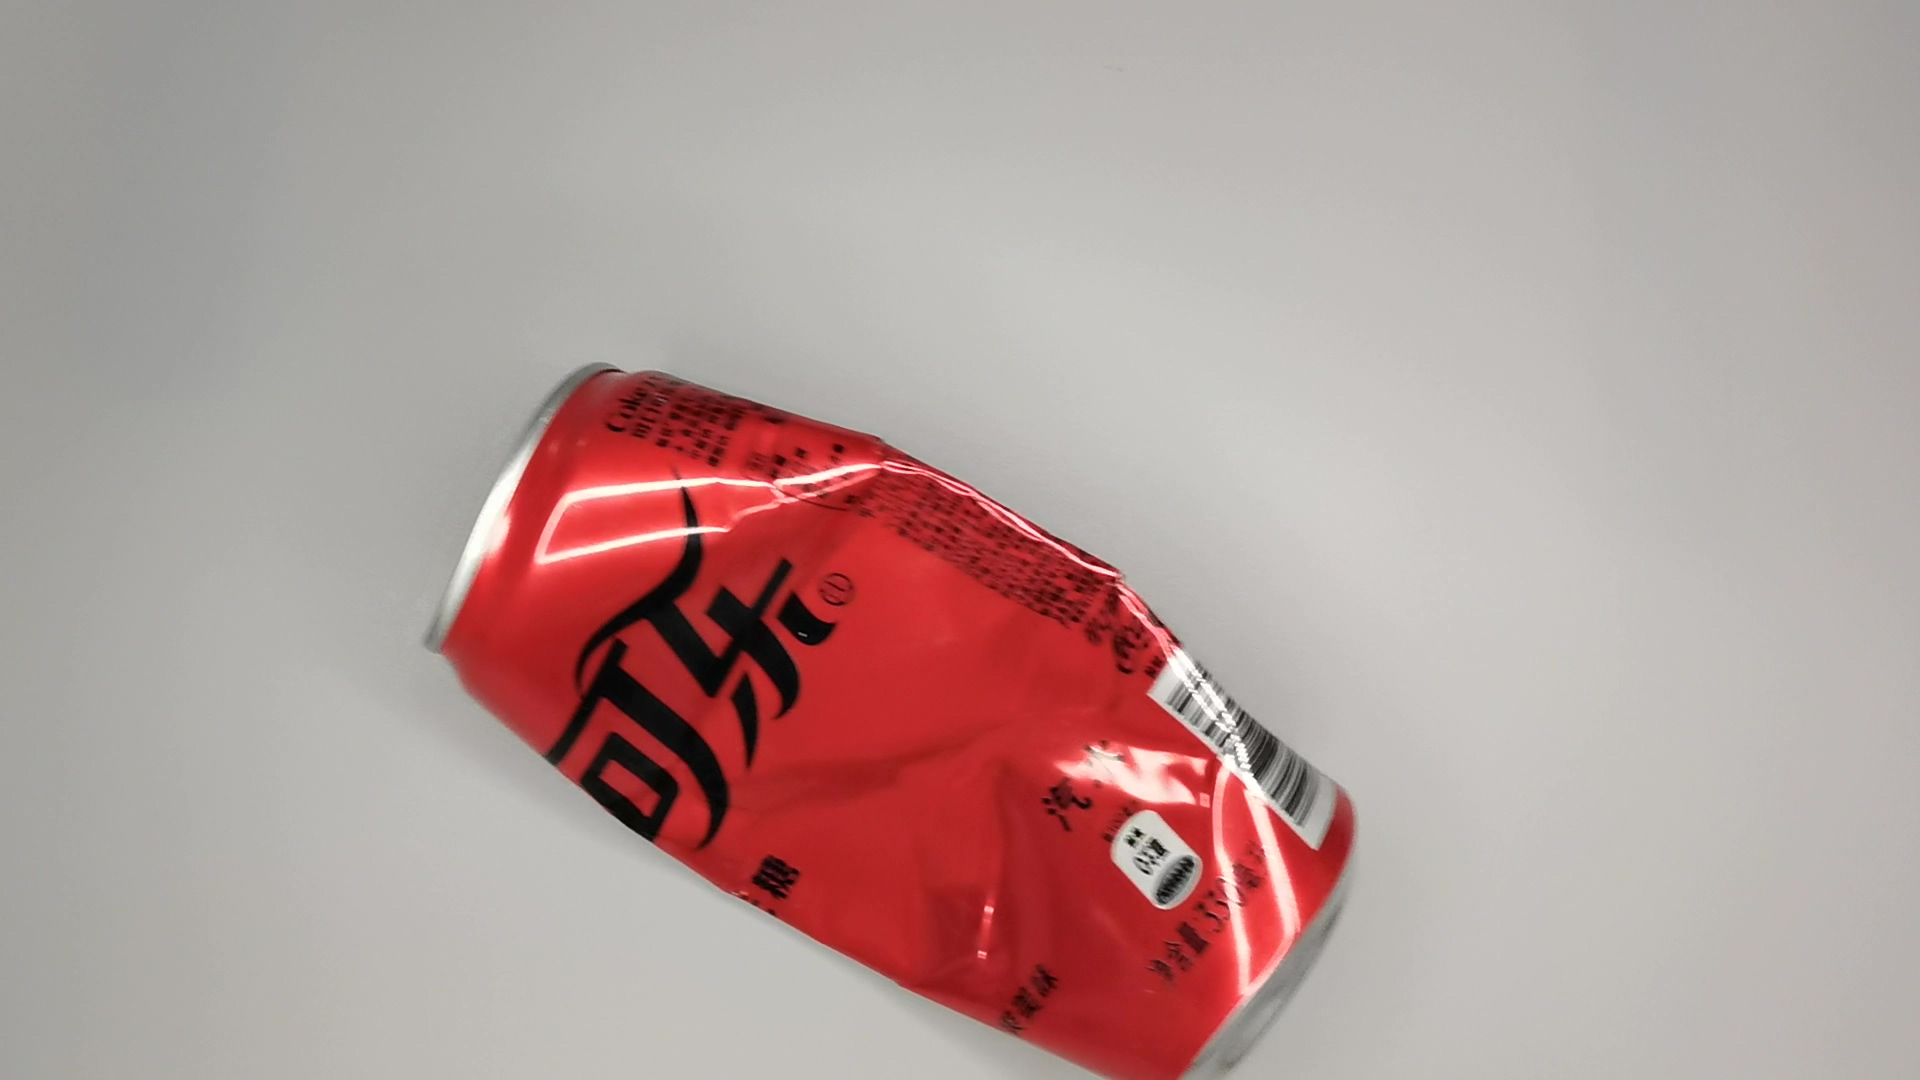can: (418, 348, 1364, 1080)
